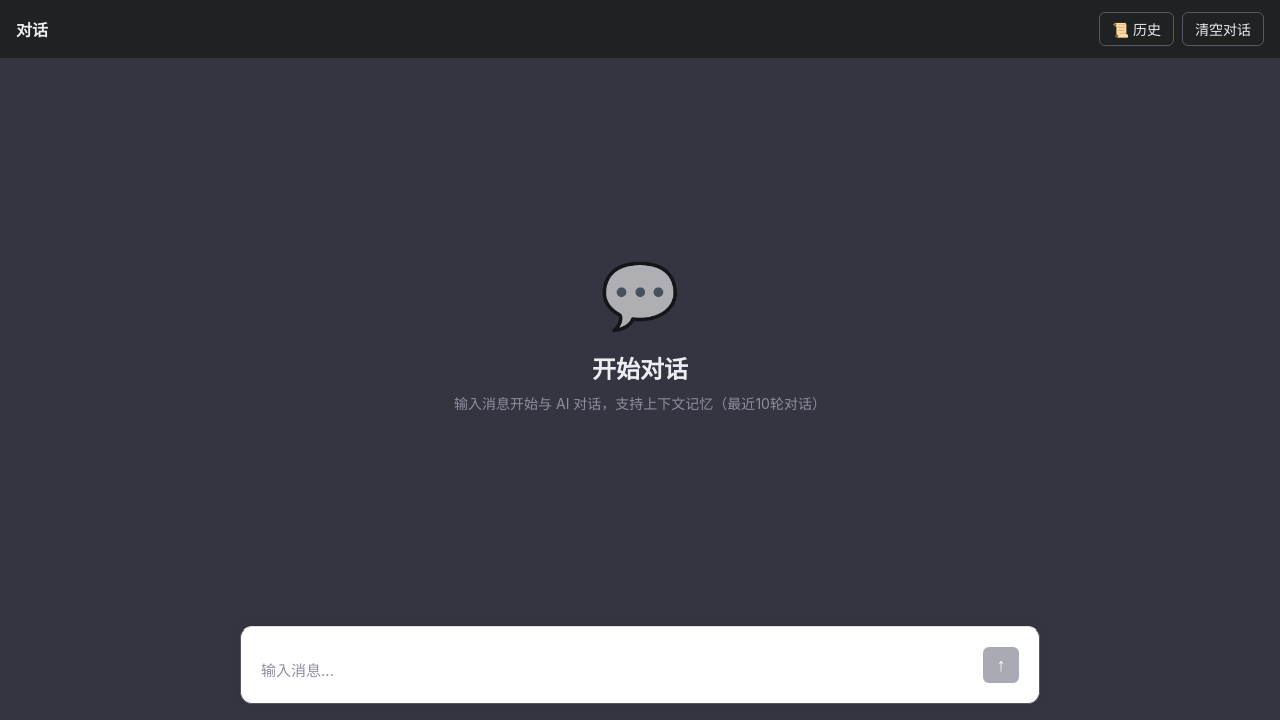
it: ChatInterface › 发送消息后用户消息出现在列表中
Type "你好" into the text box at x=616, y=672, box [261, 660, 971, 683]
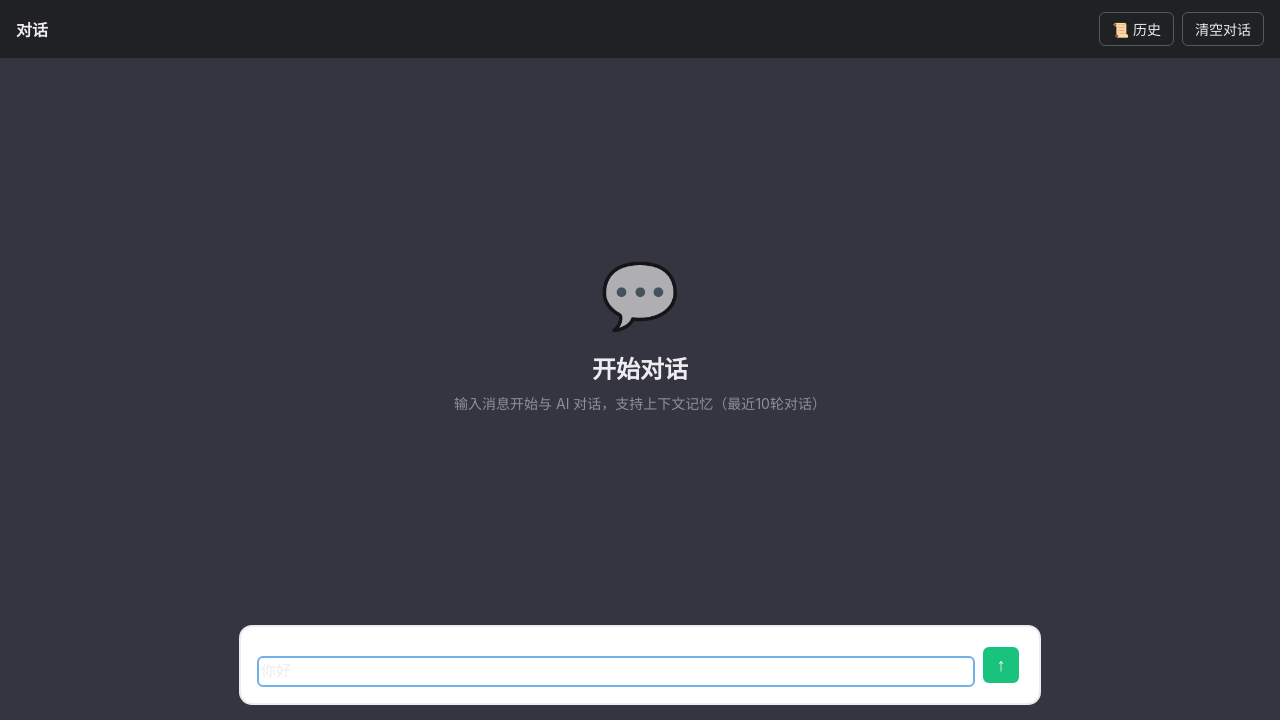
Click the button named "发送消息" at x=1001, y=665, box [983, 647, 1019, 683]
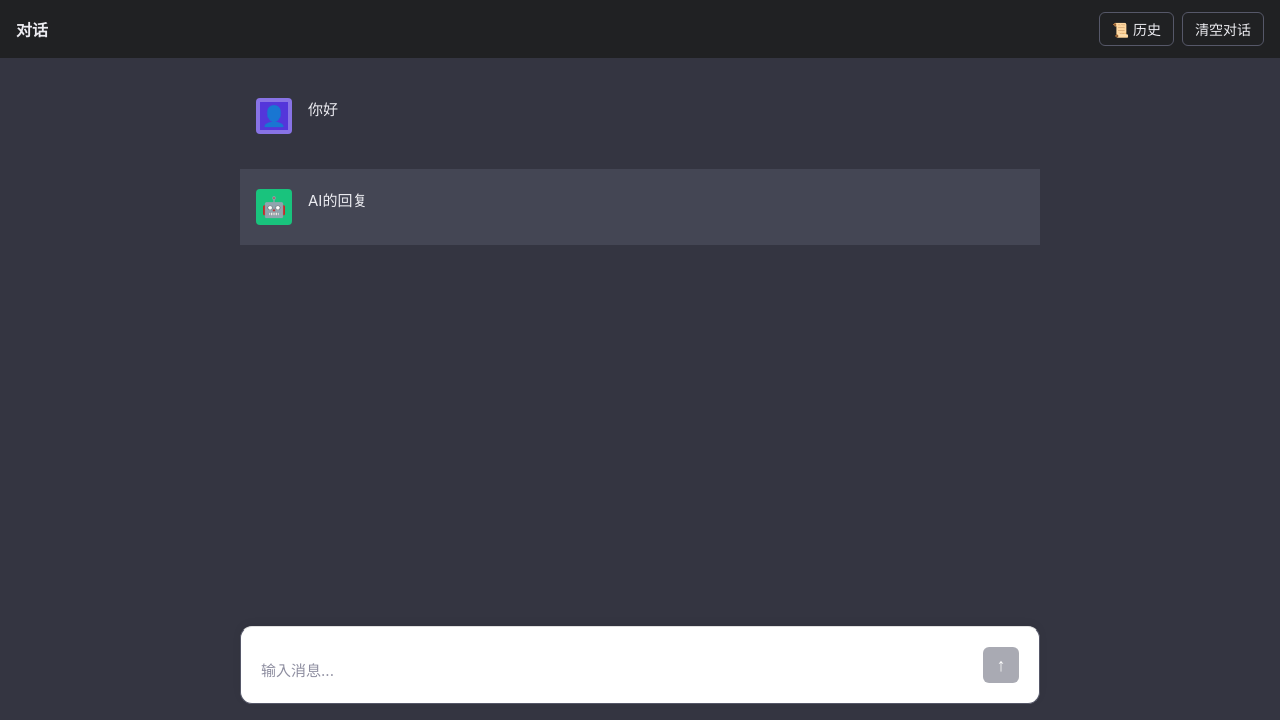
Expected: the text "你好" is shown, [308, 100, 338, 119]
